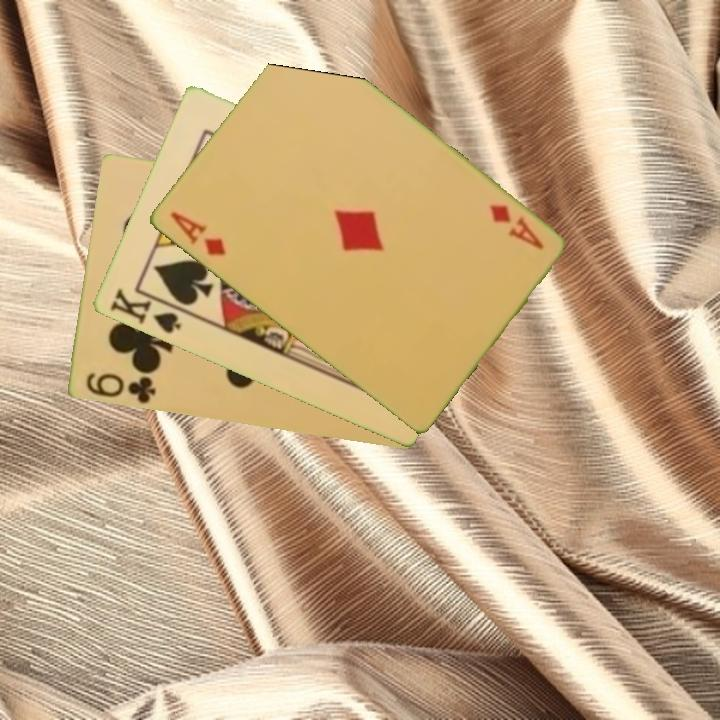6c: (82, 369, 159, 406)
Ad: (485, 200, 547, 253), (166, 208, 228, 259)
Ks: (106, 285, 190, 337)
